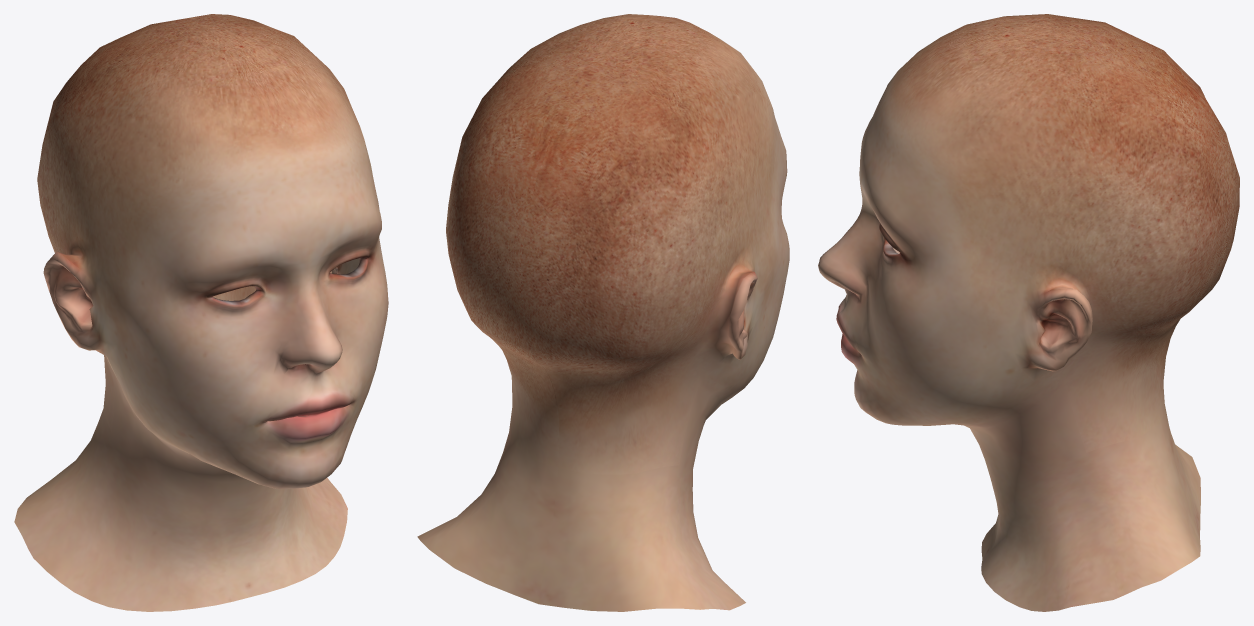
3 renders of one model, left to right at view 1: azimuth 30°, elevation 25°; view 2: azimuth 150°, elevation 25°; view 3: azimuth 270°, elevation 25°, orthographic. The views are drawn at different scales.
Parts seen in each view (by area): view 1: JODIE HEAD_3; view 2: JODIE HEAD_3; view 3: JODIE HEAD_3.
Part boxes in pixels (x1=…): JODIE HEAD_3: x1=14, y1=14, x2=388, y2=611; JODIE HEAD_3: x1=417, y1=14, x2=789, y2=611; JODIE HEAD_3: x1=818, y1=14, x2=1239, y2=611.
Size of the model in its own units: 2.53 by 4.39 by 3.17.
1 material, 1 textured.
